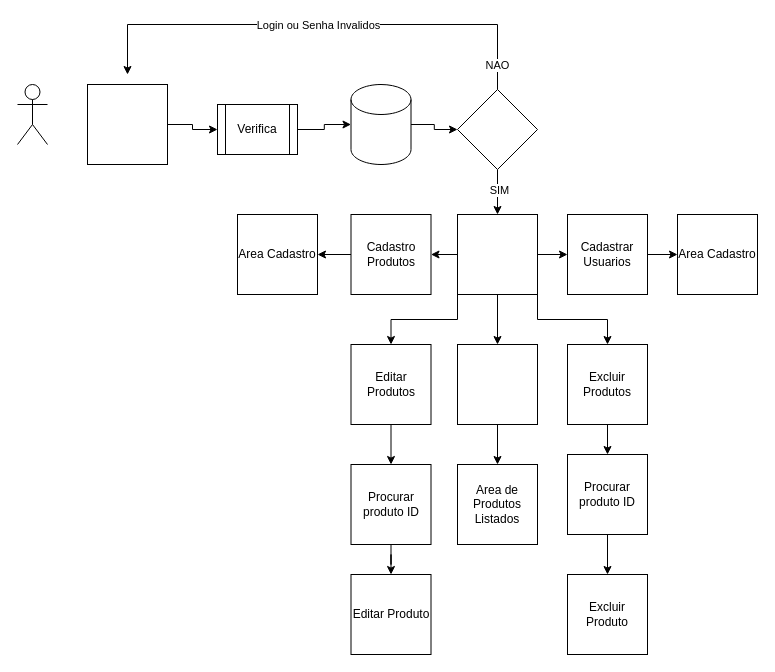
The diagram is 775 pixels wide and 672 high, and some of its shapes have lost their labels. The shapes that lost their labels are listed below. From the top down, each one's centre as x and y in pixels, then its label:
At (x=32, y=114): "Actor".
At (x=127, y=124): "Login Sistema Login: Senha:".
At (x=380, y=124): "BD".
At (x=497, y=254): "MENU SISTEMA".
At (x=497, y=384): "Listar Produtos".
